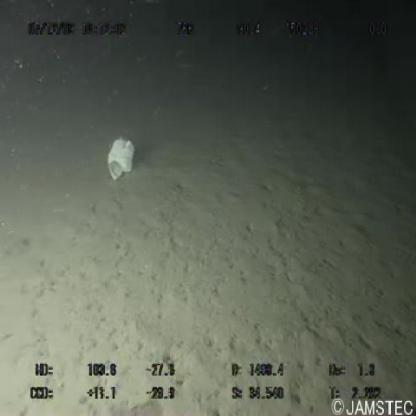Rác: (105, 134, 142, 188)
